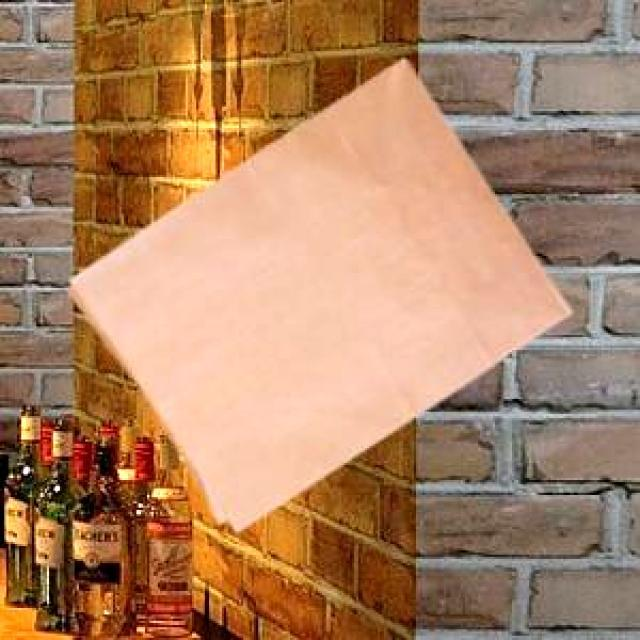Paper_Bag: (64, 56, 566, 528)
